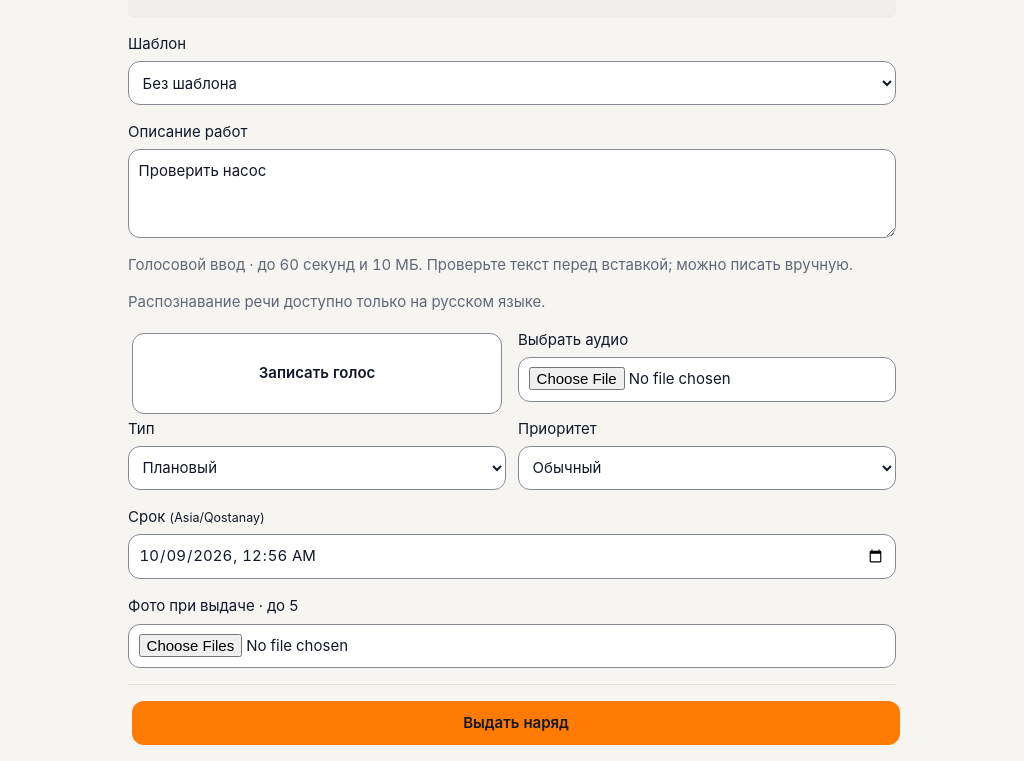
retains the issued order and successful photos when a later upload fails and retries only remaining photos
Earlier steps of the test are not shown.
(page scrolled)
Click the button "Выдать наряд". click: {"x": 516, "y": 723}
box: [132,701,900,745]
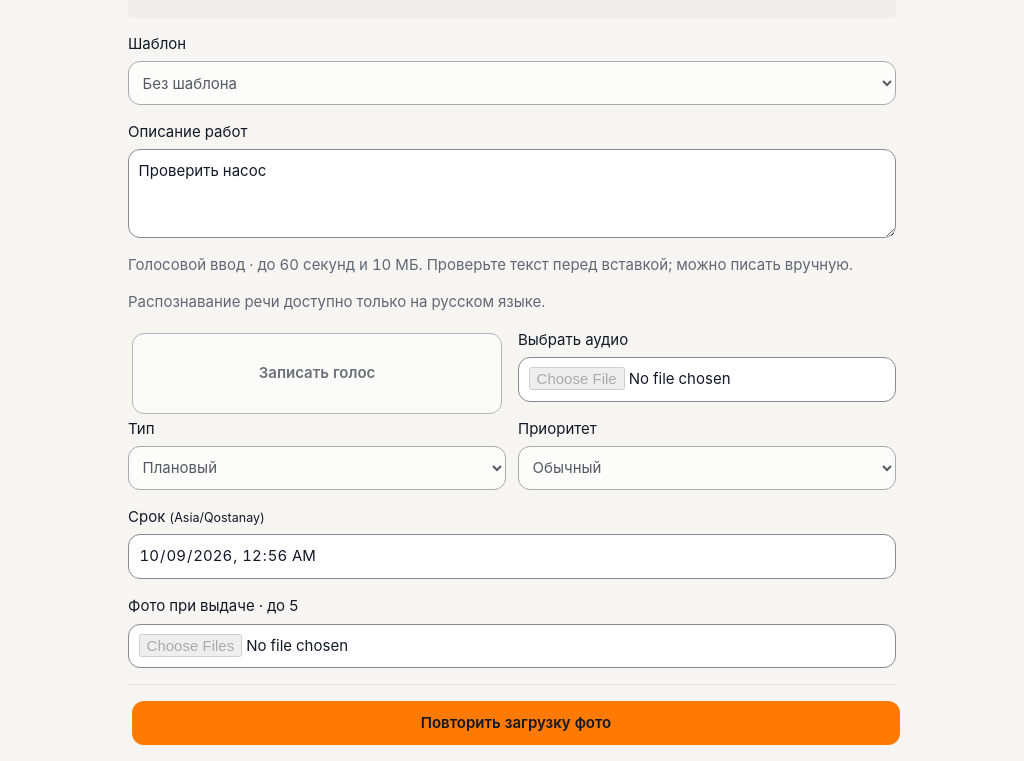
Click the button "Повторить загрузку фото". click: {"x": 516, "y": 723}
box: [132,701,900,745]
(page scrolled)
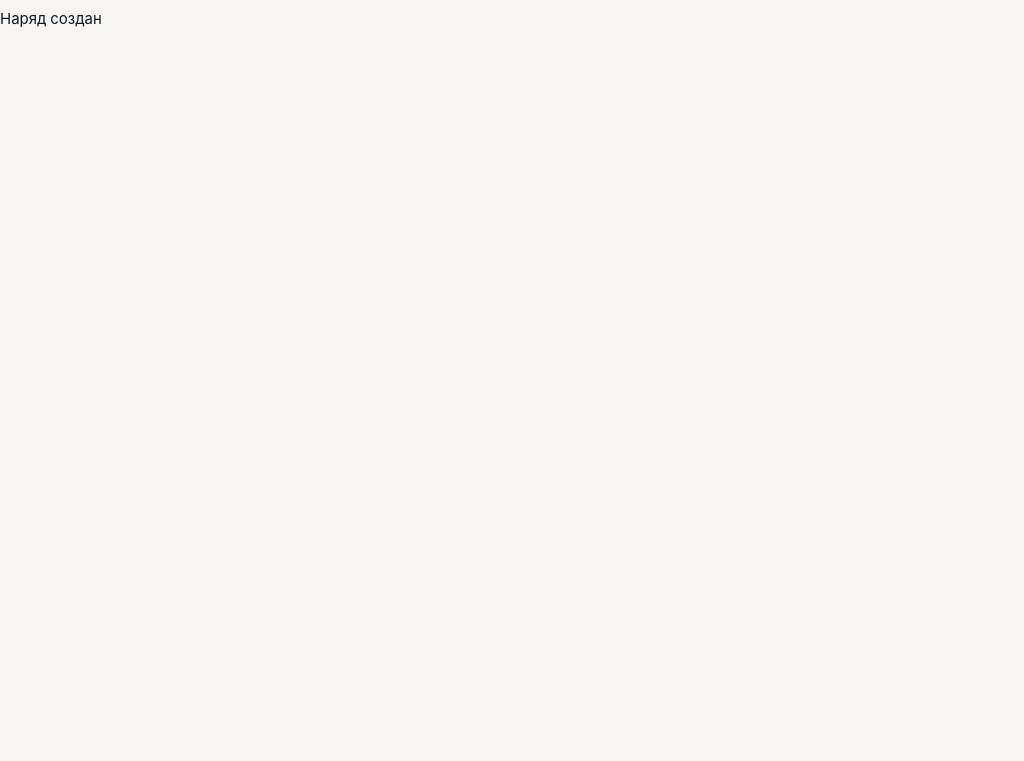
Result: the text "Наряд создан" is shown at [0,9,102,28]
